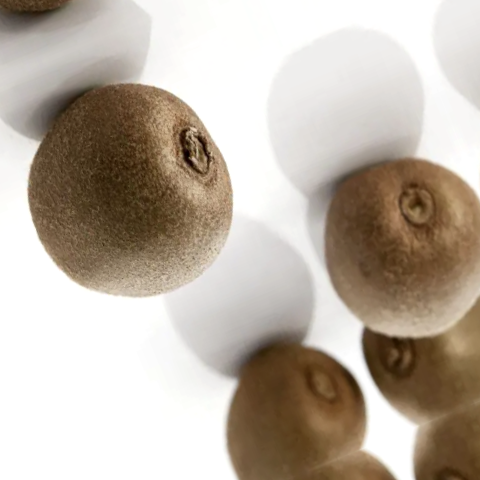kiwi: (0, 35, 286, 352), (268, 116, 480, 375)
